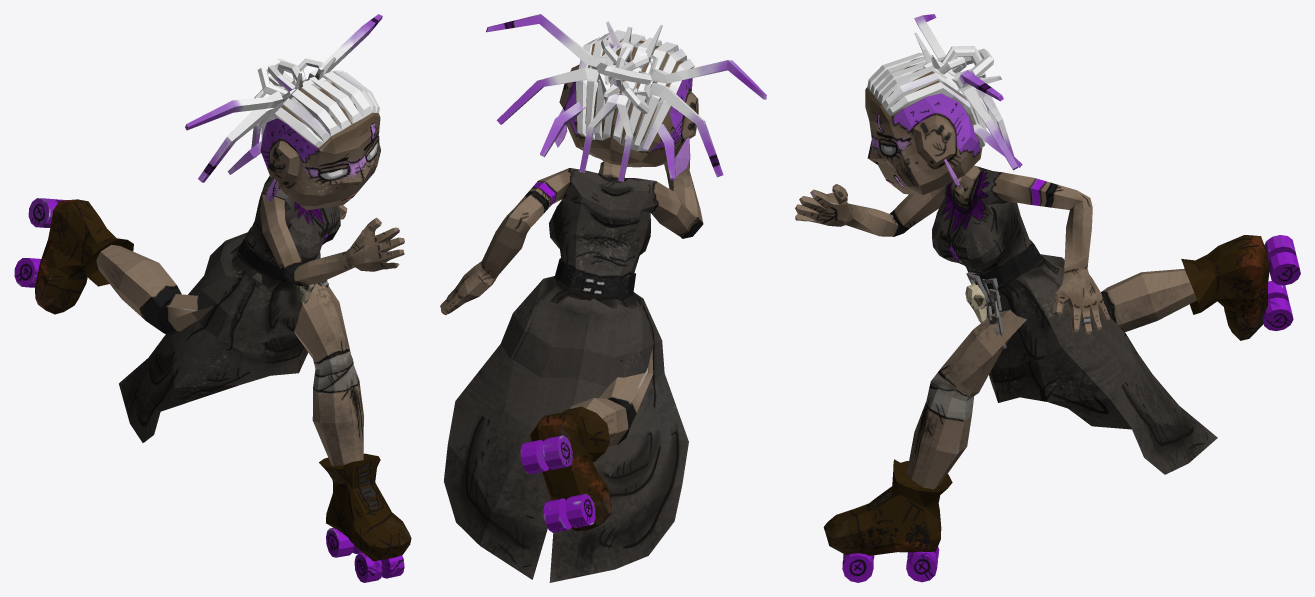
File: bruja_000001.obj
The picture shows the model from 3 angles, left to right: view 1: azimuth 30°, elevation 25°; view 2: azimuth 150°, elevation 25°; view 3: azimuth 270°, elevation 25°; orthographic projection. The views are drawn at different scales.
Visible parts, largest first — view 1: Bruja_Plane.001; view 2: Bruja_Plane.001; view 3: Bruja_Plane.001.
Part boxes in pixels (bbox=[...]): Bruja_Plane.001: bbox=[14, 14, 411, 582]; Bruja_Plane.001: bbox=[440, 14, 766, 582]; Bruja_Plane.001: bbox=[795, 14, 1300, 582].
Size of the model in its own units: 7.29 by 15.19 by 13.35.
